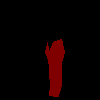jeans: (45, 38, 64, 97)
